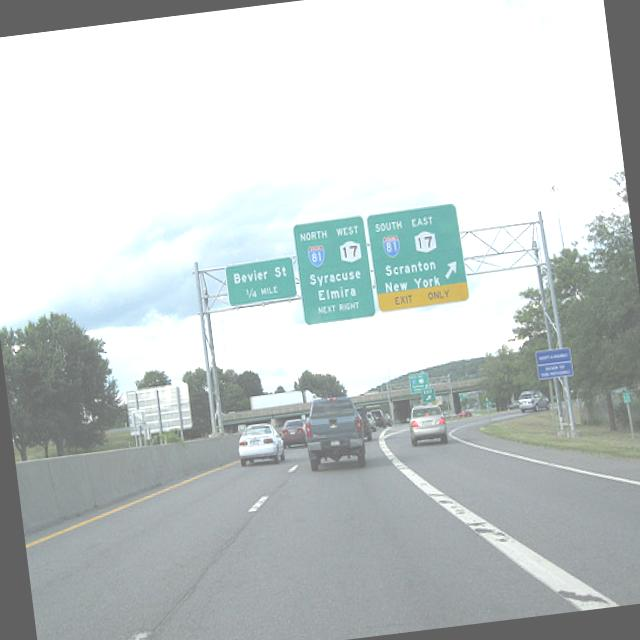Vehicle: (302, 392, 369, 474), (235, 421, 287, 468), (406, 401, 448, 447), (280, 418, 307, 448), (518, 389, 550, 411), (370, 408, 386, 427)
